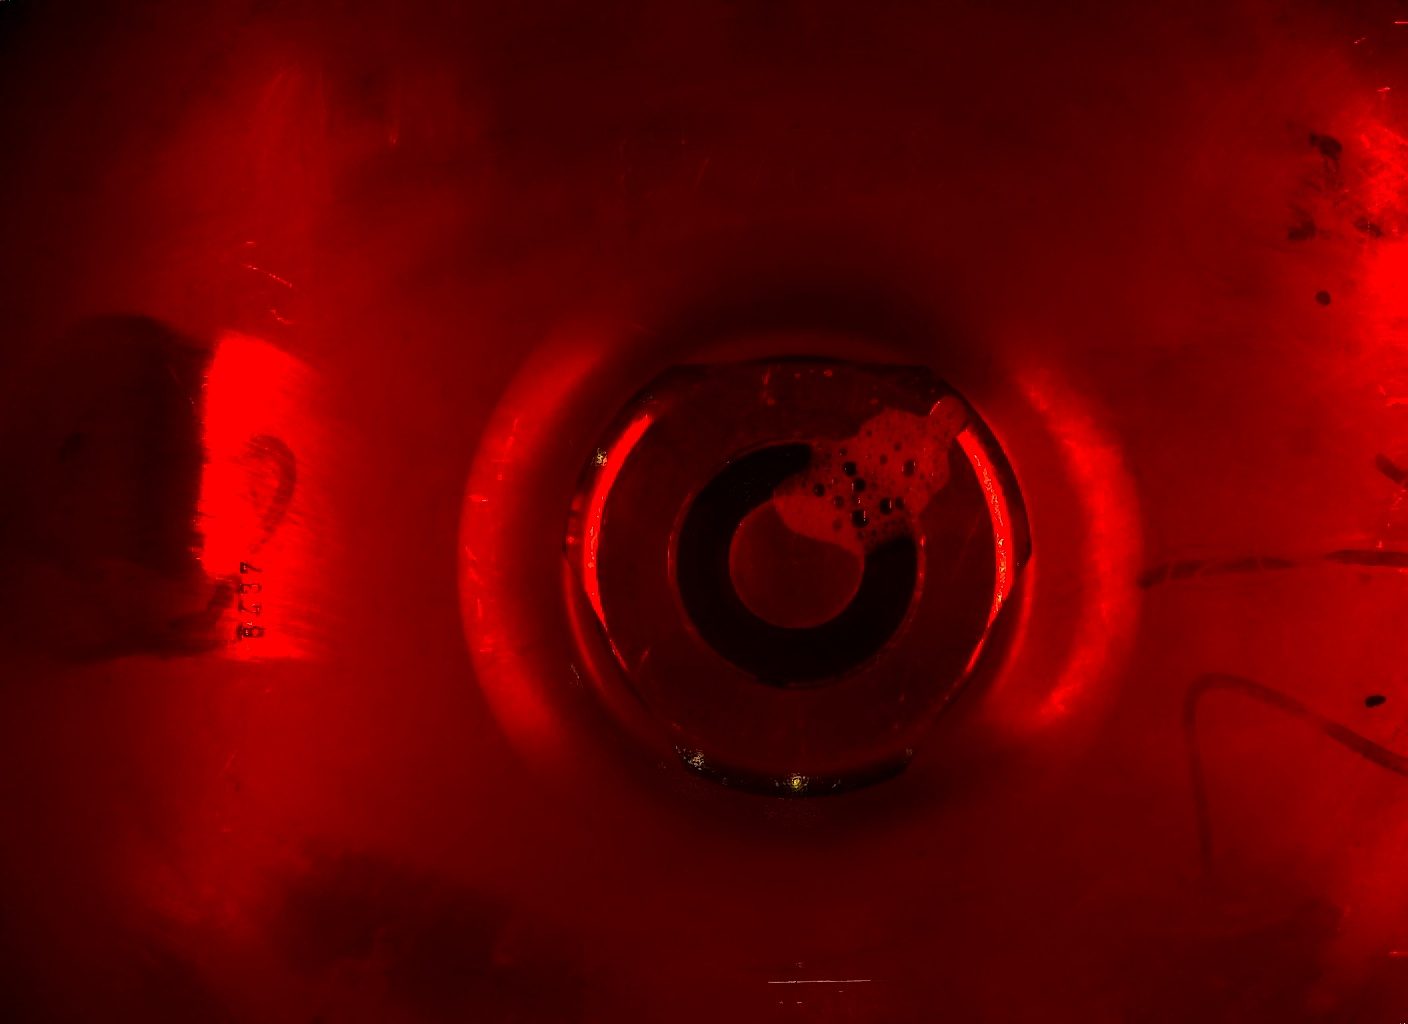pena: (768, 391, 988, 562)
